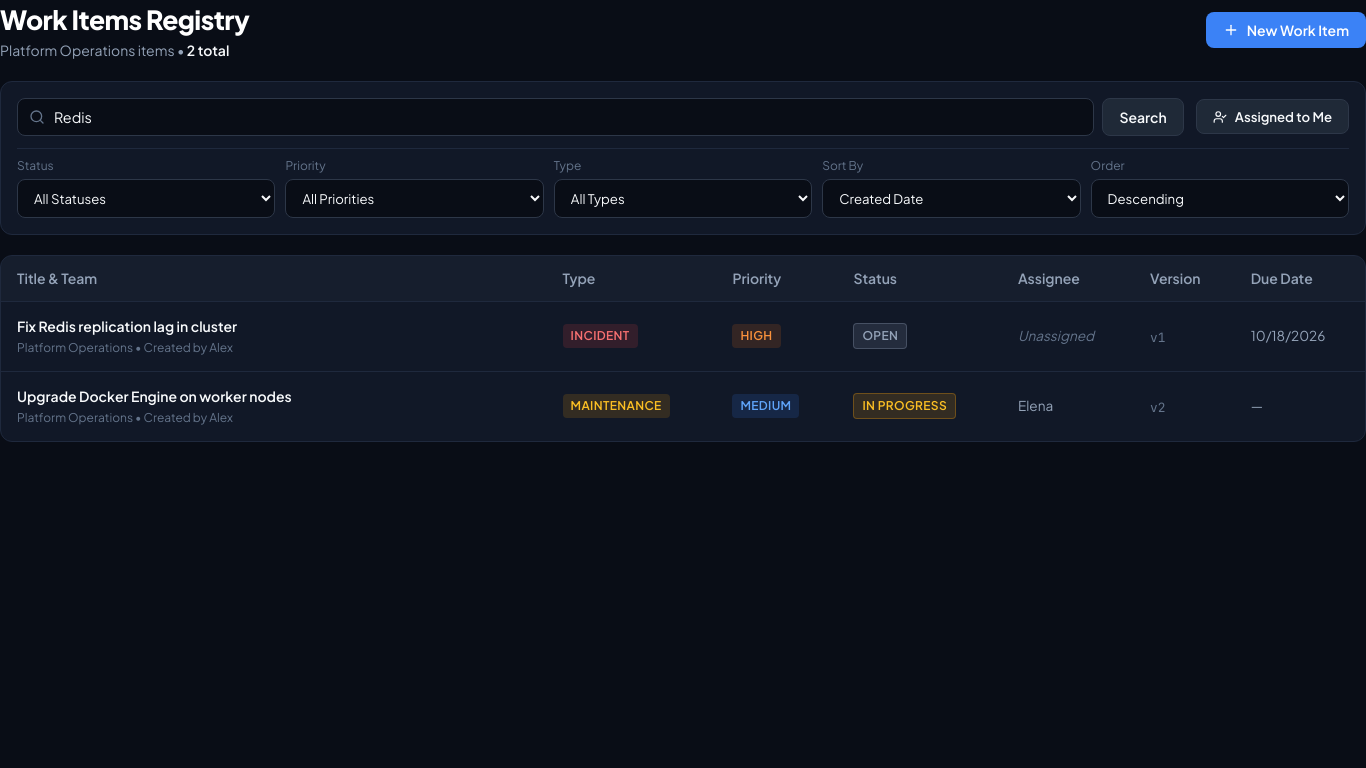
it: WorkItemsPage Component › validates creation form fields in CreateWorkItemModal and renders errors
Click the button "New Work Item".
click(1286, 30)  # box [1206,12,1365,48]
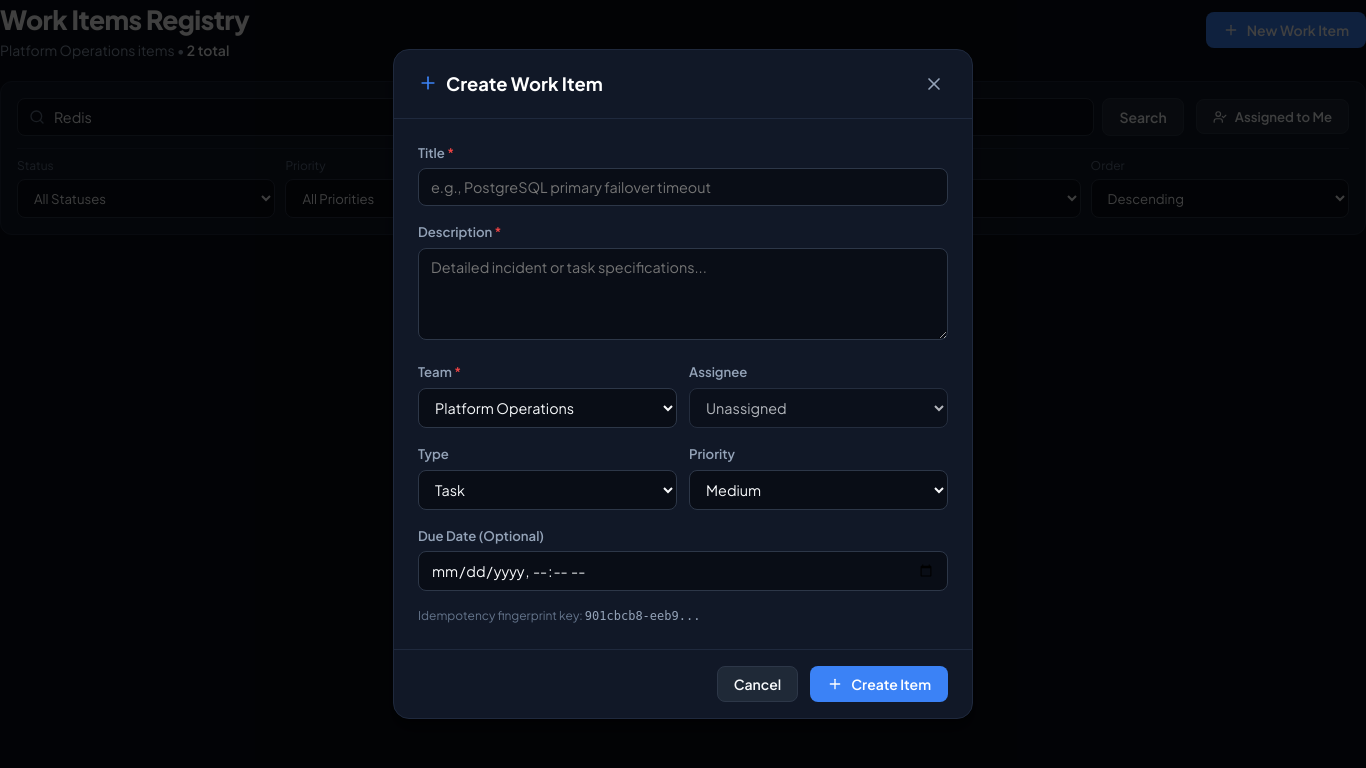
Check: the heading "Create Work Item" is shown, box [446,70,603,97]
Enter invalid short title
Type "ab" into the field labelled "Title *".
click(683, 187); type("ab")  # box [418,168,948,206]
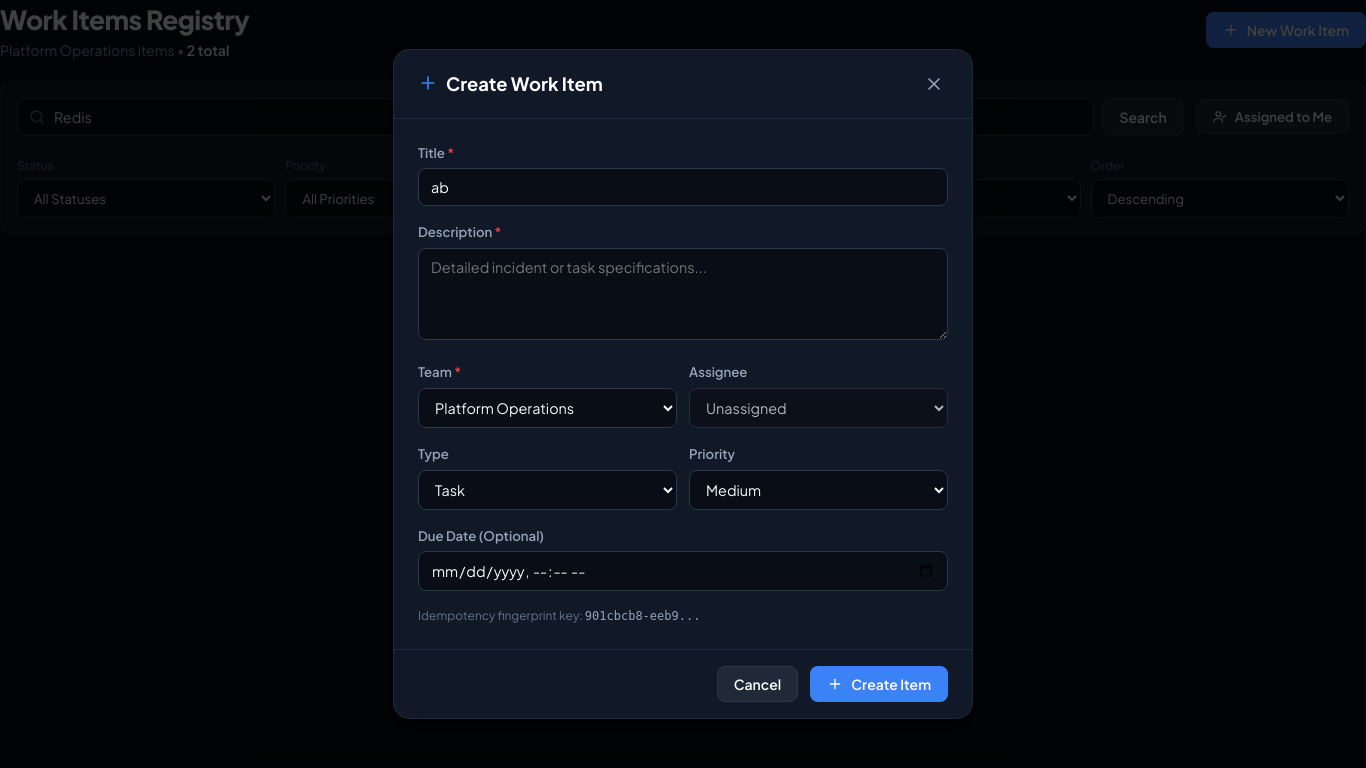
Type "Valid description here" into the text box labelled "Description *".
click(683, 294); type("Valid description here")  # box [418,248,948,340]
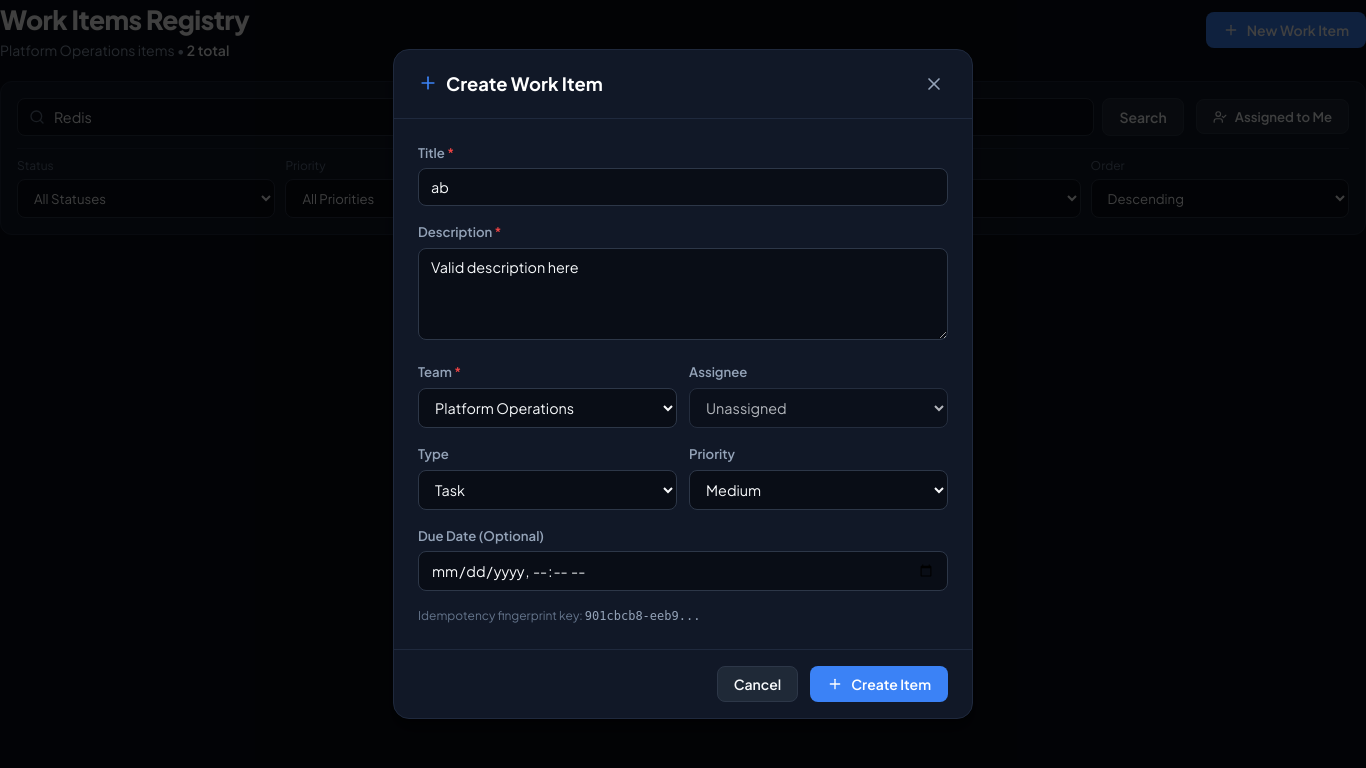
Click the button "Create Item".
click(879, 684)  # box [810,666,948,702]
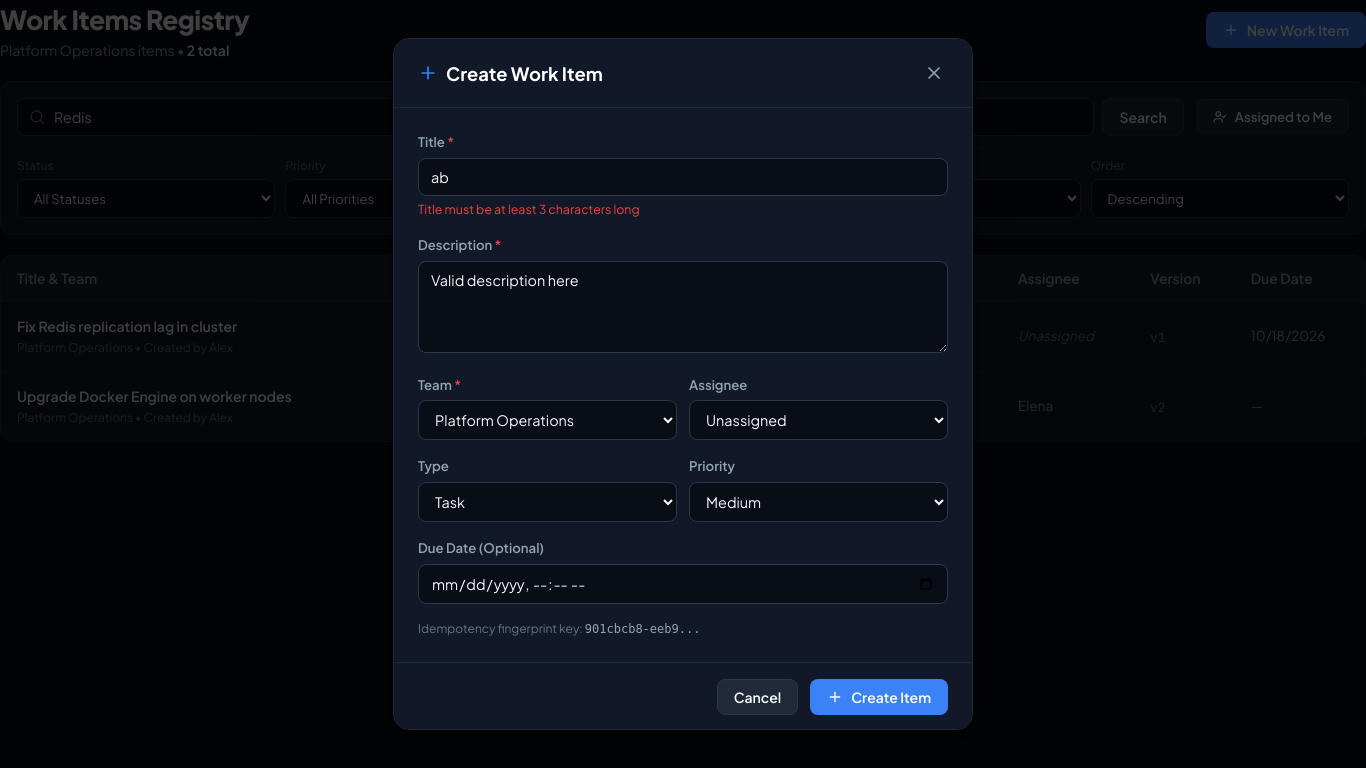
Check: the text "Title must be at least 3 characters long" is shown, box [418,201,640,217]
